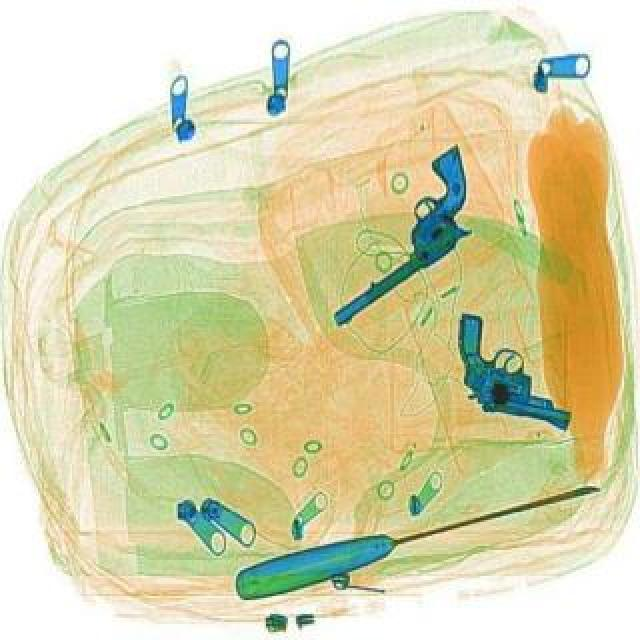gun: (282, 142, 510, 328), (414, 302, 596, 452)
knife: (230, 462, 606, 604)
